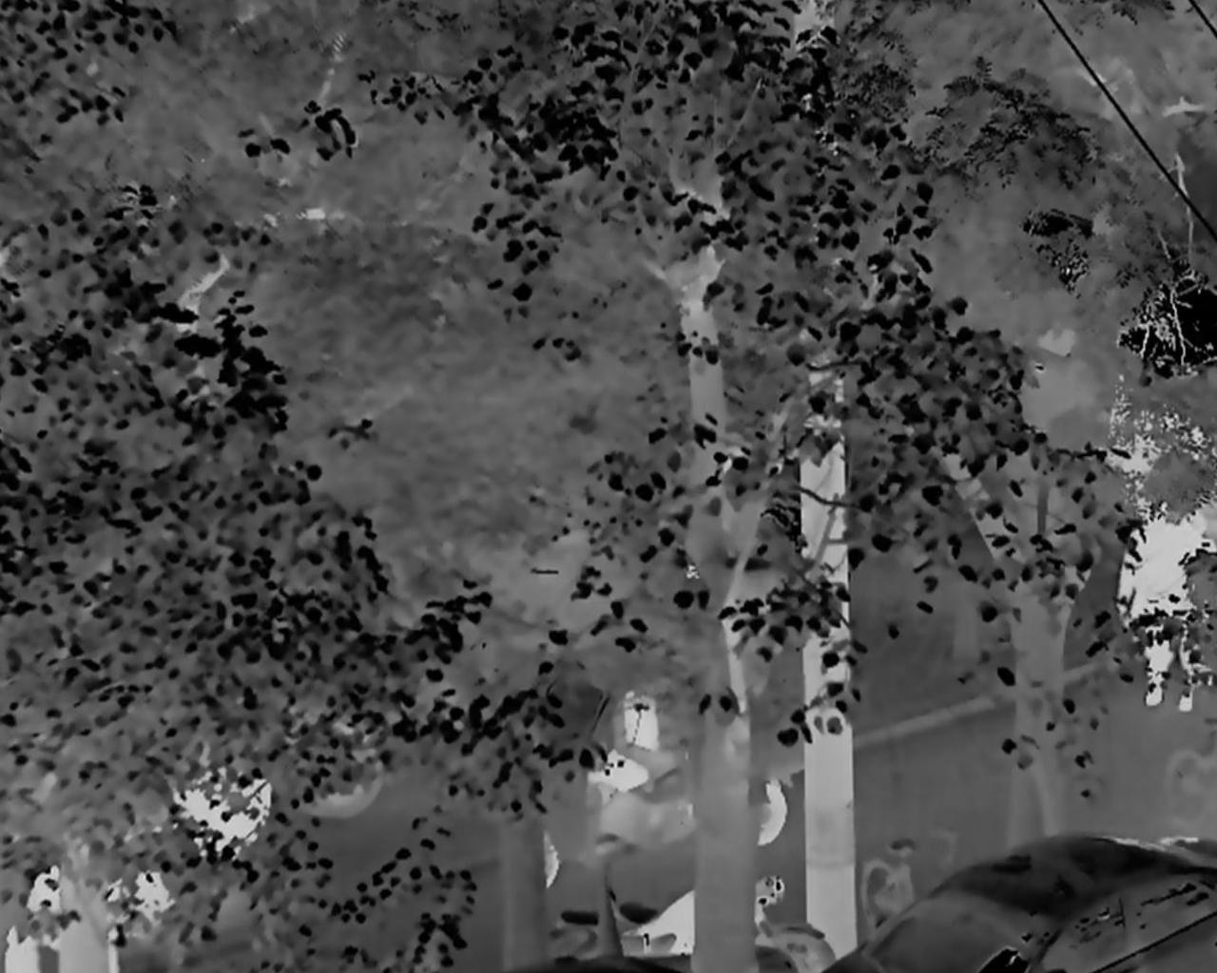person: (1117, 491, 1179, 706), (1178, 509, 1217, 713)
